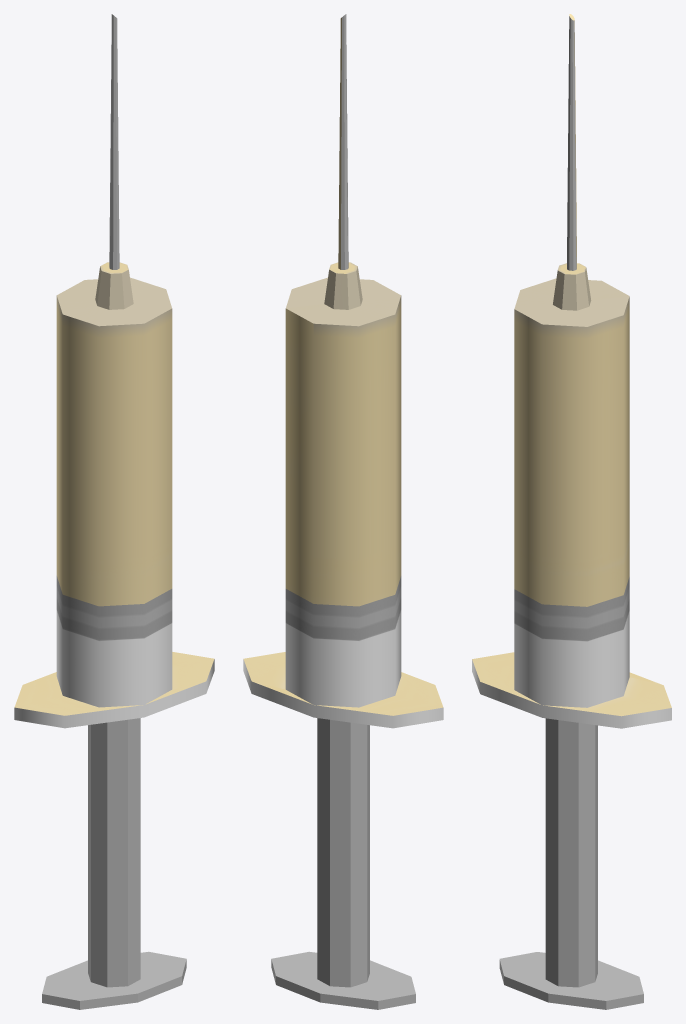
File: syringe.FBX
3 renders of one model, left to right at view 1: azimuth 30°, elevation 25°; view 2: azimuth 150°, elevation 25°; view 3: azimuth 330°, elevation 25°, orthographic.
Visible parts, largest first — view 1: Cylinder001; view 2: Cylinder001; view 3: Cylinder001.
Part boxes in pixels (x1,y1,x2,y2): Cylinder001: (14, 14, 214, 1009); Cylinder001: (243, 14, 443, 1009); Cylinder001: (472, 14, 671, 1009).
Bounding box in the file's own units: 32.54 × 151 × 16.83.
1 material, 1 textured.
